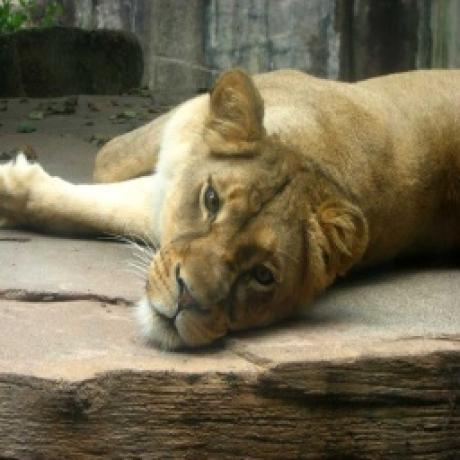Lion: (0, 60, 460, 356)
